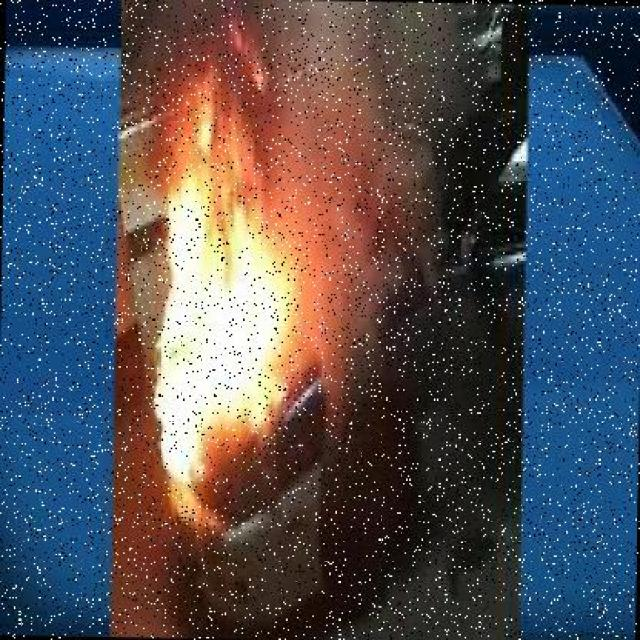fire: (146, 126, 331, 534)
